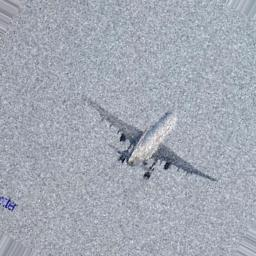Airplane: (85, 95, 218, 186)
